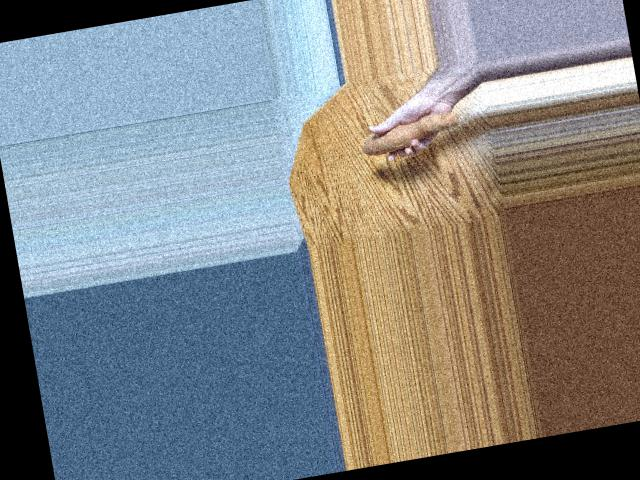sweet_potato: (355, 99, 472, 159)
